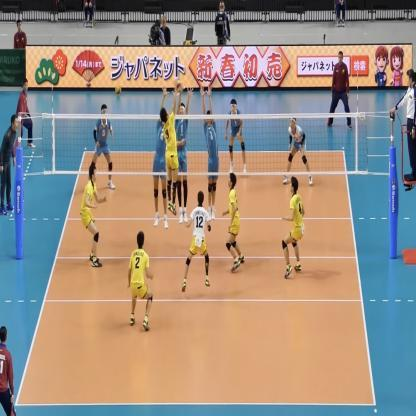spike: (158, 79, 184, 216)
